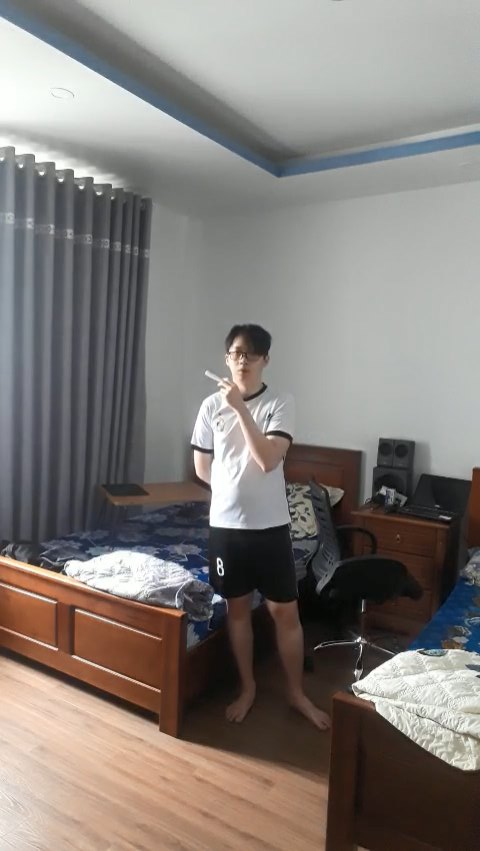cigarette: (205, 370, 223, 384)
person: (183, 318, 332, 737)
